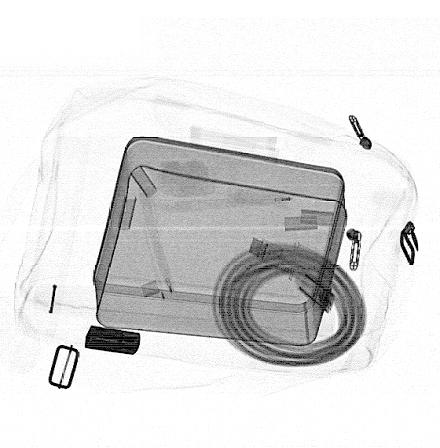Lighter: (84, 325, 141, 355)
